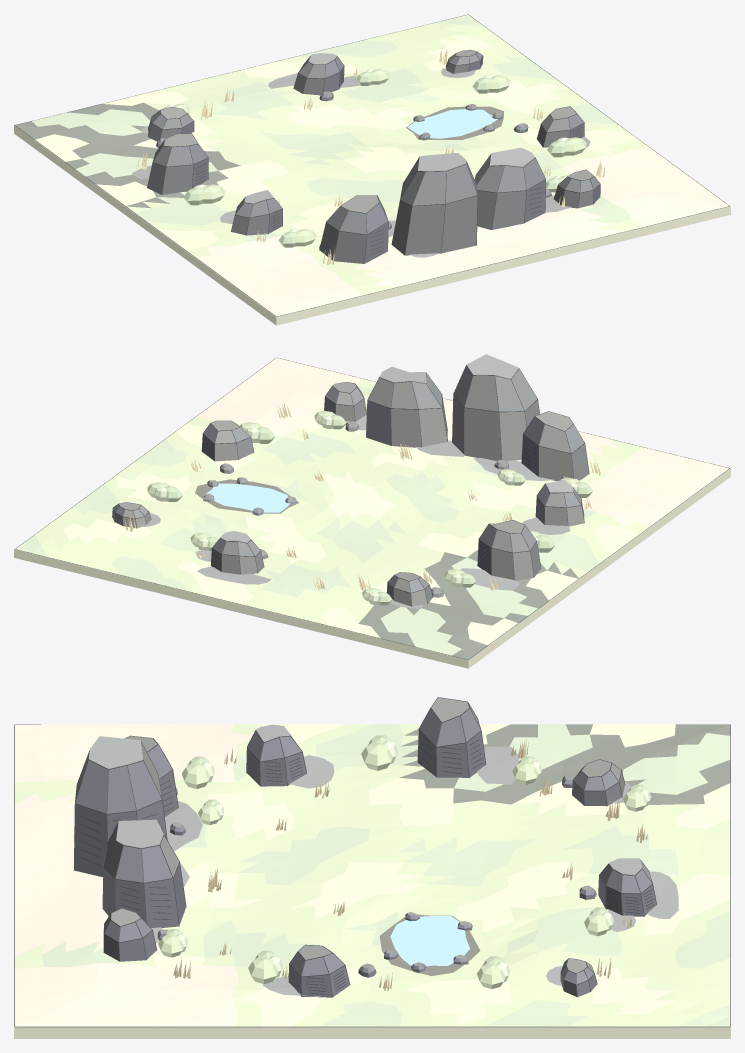
Rendered from Tundra_Blockout_v1.fbx.
The picture shows the model from 3 angles, top to bottom: view 1: azimuth 30°, elevation 25°; view 2: azimuth 150°, elevation 25°; view 3: azimuth 270°, elevation 25°; orthographic projection. The views are drawn at different scales.
Parts seen in each view (by area): view 1: Ground_Surface, Rock_02, Ground_SlabSides, Ink_EdgesAndHatching, Rock_03, Rock_01, Rock_06, Pond_ShallowWater, Rock_05, Rock_08, Rock_04, Rock_09 (+5 smaller); view 2: Ground_Surface, Ground_SlabSides, Rock_02, Rock_03, Ink_EdgesAndHatching, Rock_01, Rock_06, Pond_ShallowWater, Rock_09, Rock_08, Rock_05, Rock_04 (+8 smaller); view 3: Ground_Surface, Ground_SlabSides, Ink_EdgesAndHatching, Rock_02, Rock_03, Rock_06, Pond_ShallowWater, Rock_05, Rock_09, Rock_08, Rock_04, Rock_07 (+13 smaller).
Boxes of the visible parts, box(x1,y1,x2,y2) form: Ground_Surface: box(14, 14, 730, 317); Rock_02: box(391, 158, 477, 255); Ground_SlabSides: box(14, 125, 730, 325); Ink_EdgesAndHatching: box(15, 14, 729, 316); Rock_03: box(475, 155, 545, 229); Rock_01: box(319, 195, 387, 263); Rock_06: box(147, 133, 208, 194); Pond_ShallowWater: box(407, 109, 497, 138); Rock_05: box(231, 198, 282, 235); Rock_08: box(293, 56, 343, 95); Rock_04: box(554, 170, 600, 208); Rock_09: box(537, 106, 584, 147); Ground_Surface: box(14, 357, 730, 660); Ground_SlabSides: box(14, 468, 730, 668); Rock_02: box(452, 365, 539, 461); Rock_03: box(366, 373, 447, 447); Ink_EdgesAndHatching: box(14, 357, 729, 659); Rock_01: box(521, 411, 588, 480); Rock_06: box(477, 520, 540, 580); Pond_ShallowWater: box(206, 483, 290, 512); Rock_09: box(202, 421, 253, 461); Rock_08: box(211, 538, 263, 574); Rock_05: box(536, 484, 584, 526); Rock_04: box(324, 382, 366, 421); Ground_Surface: box(14, 724, 730, 1027); Ground_SlabSides: box(14, 1027, 730, 1038); Ink_EdgesAndHatching: box(14, 697, 730, 1027); Rock_02: box(74, 742, 166, 877); Rock_03: box(102, 823, 185, 927); Rock_06: box(418, 697, 485, 777); Pond_ShallowWater: box(390, 916, 469, 966); Rock_05: box(246, 731, 306, 786); Rock_09: box(289, 945, 349, 997); Rock_08: box(598, 860, 656, 916); Rock_04: box(104, 908, 156, 961); Rock_07: box(572, 760, 624, 806).
Size of the model in its own units: 1700 by 320 by 1700.
